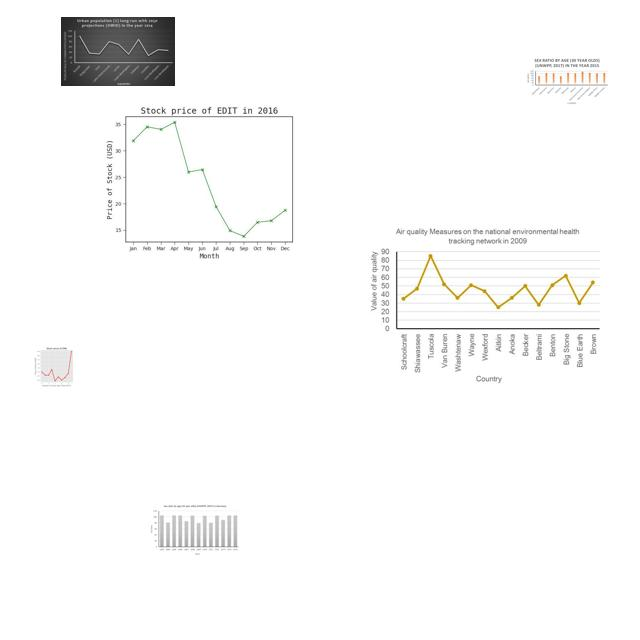Graph: (364, 220, 605, 390), (98, 97, 315, 260), (61, 17, 175, 86), (147, 503, 242, 557), (525, 57, 609, 106), (28, 345, 84, 387)
